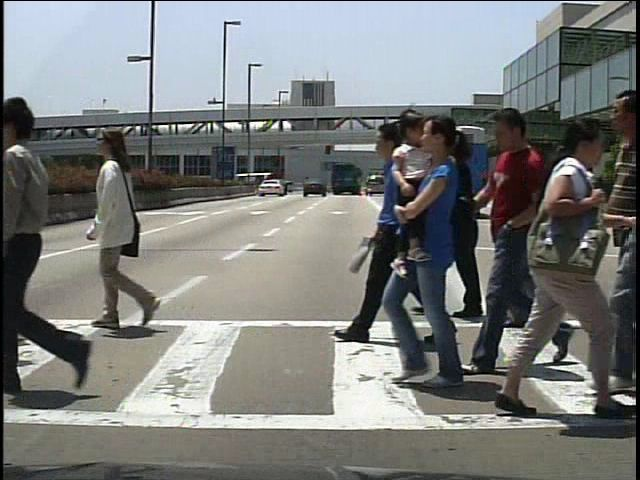person: (476, 111, 611, 427), (8, 79, 123, 402), (332, 118, 460, 347), (80, 121, 168, 344), (485, 102, 536, 377), (416, 130, 489, 322), (507, 140, 575, 334), (582, 168, 602, 218), (491, 163, 509, 216)
